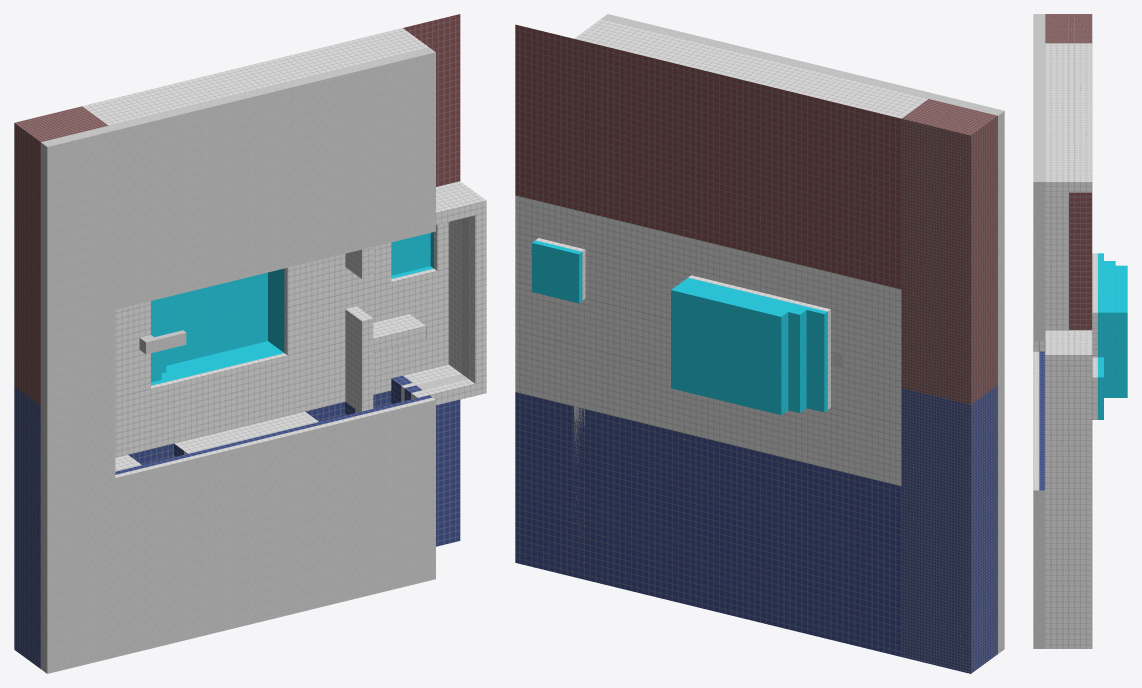
The model's file is Pool_ext.fbx.
The picture shows the model from 3 angles, left to right: view 1: azimuth 30°, elevation 25°; view 2: azimuth 150°, elevation 25°; view 3: azimuth 270°, elevation 25°; orthographic projection. The views are drawn at different scales.
Parts seen in each view (by area): view 1: Pool_ext; view 2: Pool_ext; view 3: Pool_ext.
Boxes of the visible parts, x1,y1,x2,y2 form: Pool_ext: (14, 14, 486, 673); Pool_ext: (515, 14, 1004, 673); Pool_ext: (1033, 14, 1127, 648).
Size of the model in its own units: 3880 by 4380 by 800.
7 materials, 7 textured.
